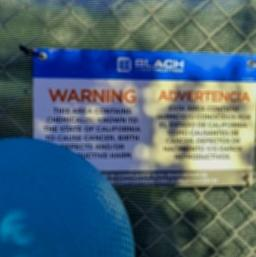algae: (0, 134, 132, 257)
